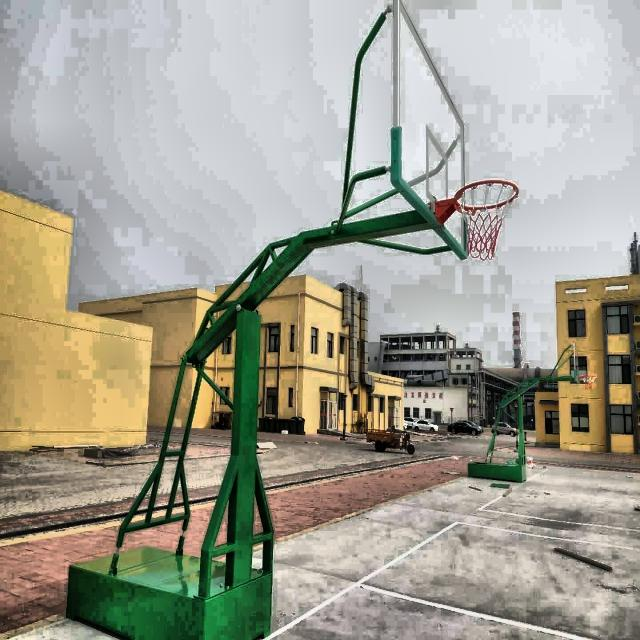rim: (454, 178, 519, 258)
